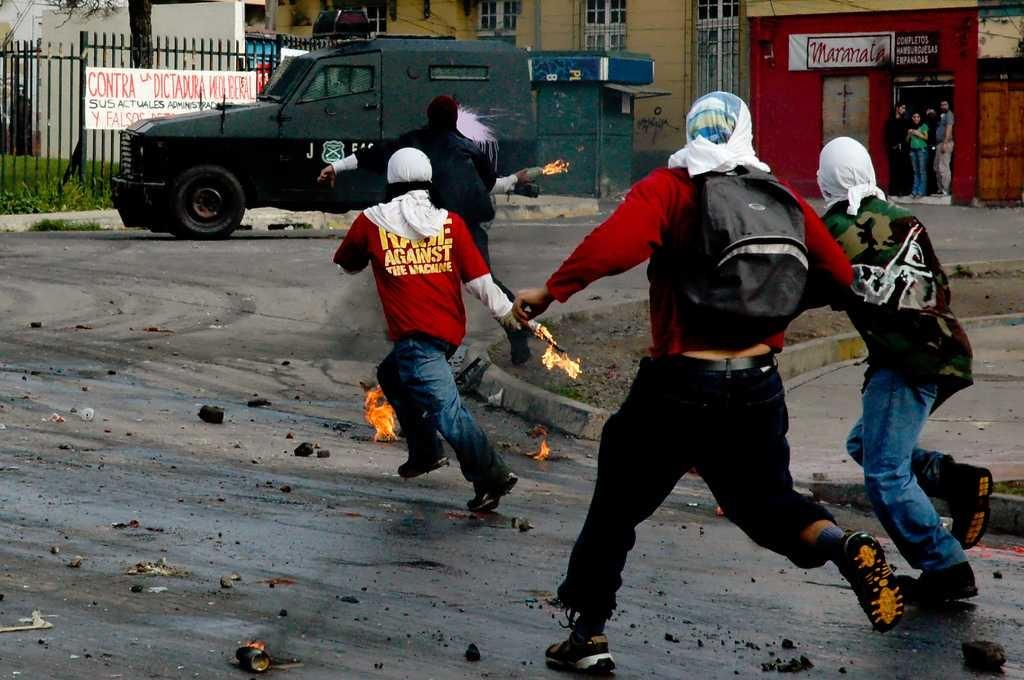fire: (526, 336, 588, 417), (356, 380, 400, 457)
